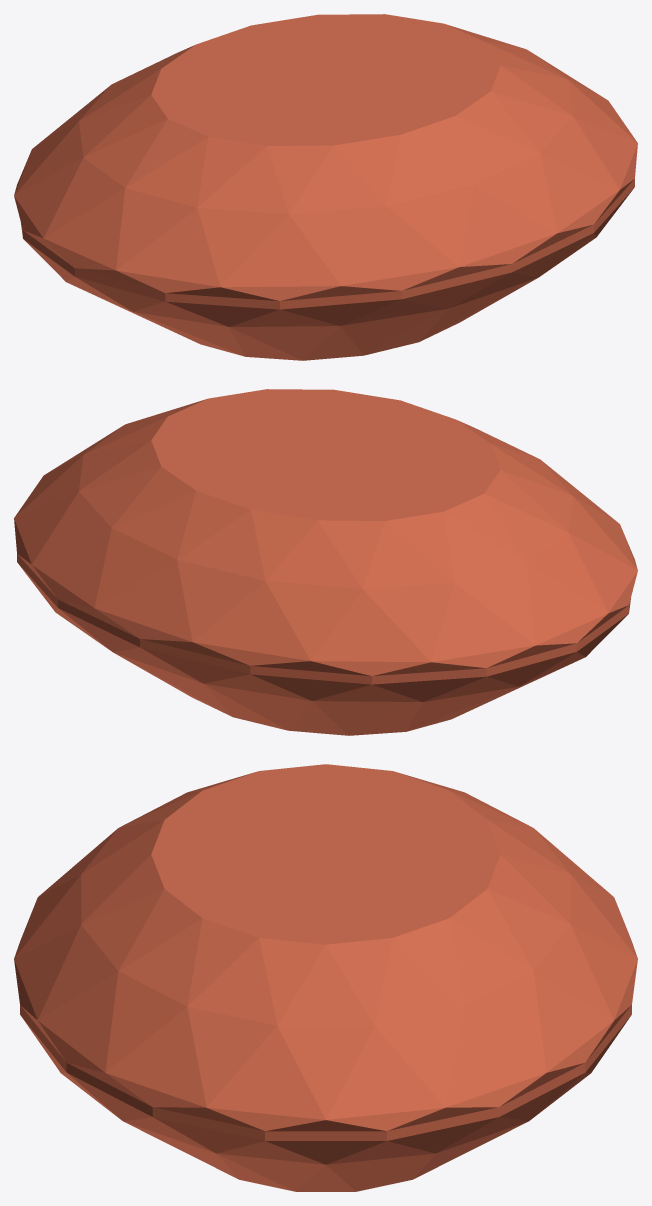
File: citrine.glb
The picture shows the model from 3 angles, top to bottom: view 1: azimuth 30°, elevation 25°; view 2: azimuth 150°, elevation 25°; view 3: azimuth 270°, elevation 25°; orthographic projection. The views are drawn at different scales.
Parts seen in each view (by area): view 1: stone; view 2: stone; view 3: stone.
Part boxes in pixels (x1,y1,x2,y2): stone: [14, 14, 637, 360]; stone: [14, 389, 637, 735]; stone: [14, 764, 637, 1191].
Bounding box in the file's own units: 1.1 × 0.4292 × 0.9.
